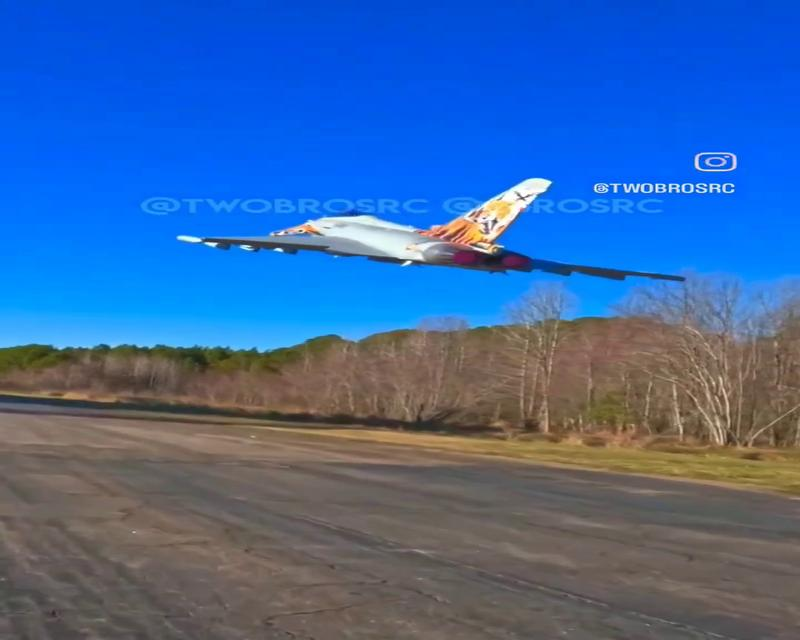UAV: (175, 176, 686, 284)
